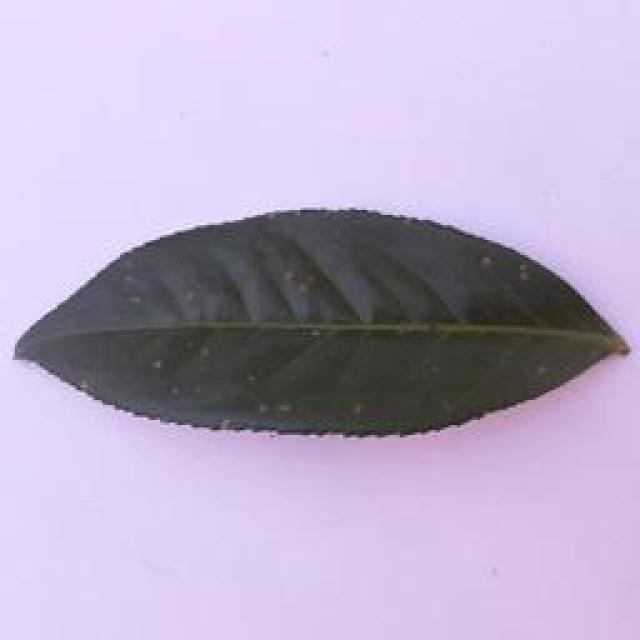Algal Leaf Spot: (6, 202, 634, 444)
